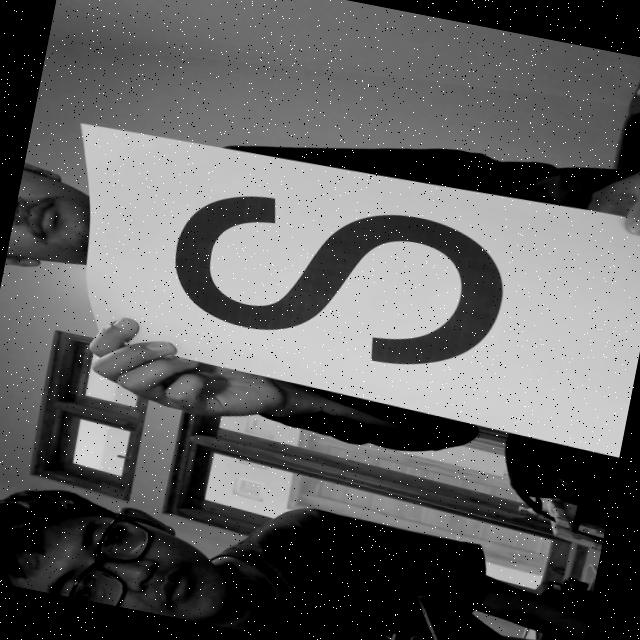s: (144, 162, 578, 408)
